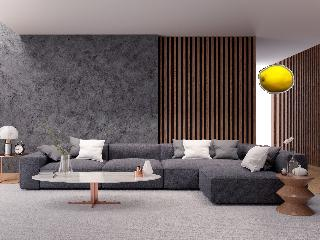lemon: (260, 67, 293, 93)
